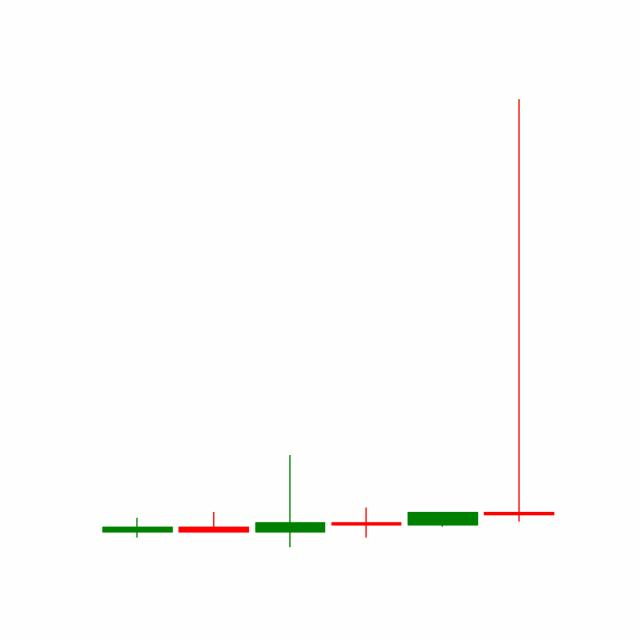Marubozu: (403, 511, 481, 528)
